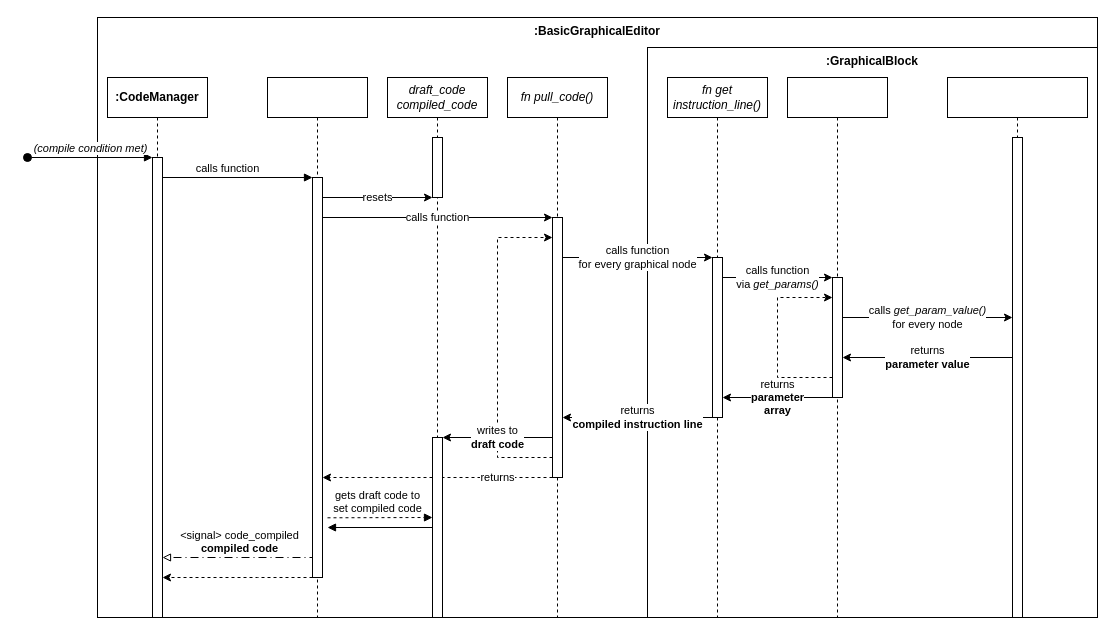
Some shapes in this 1115 by 635 pixel diagram are drawn without their labels. Here are the shapes that lost their labels. From the top down, the box of each, then its label:
(266, 76, 368, 618): fn compile()
(786, 76, 888, 618): fn pull_params
(946, 76, 1088, 618): :parameter nodes
